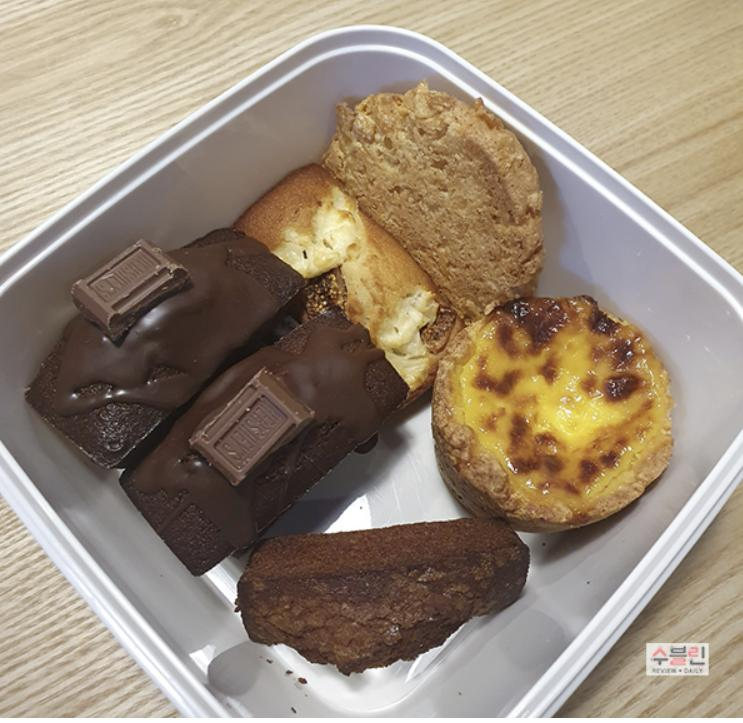Lunch Box: (0, 26, 742, 719)
